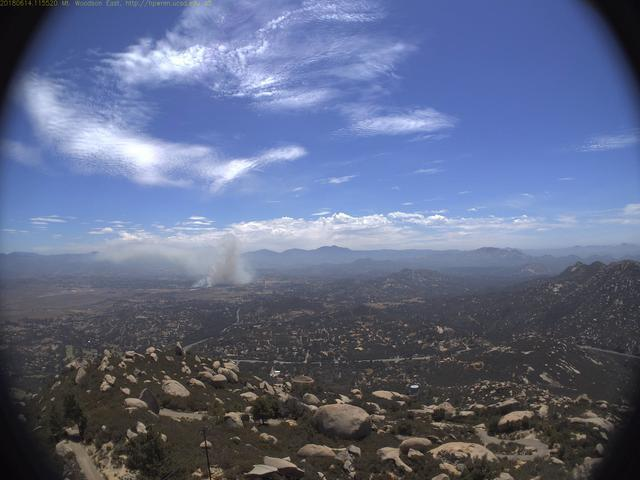smoke: (92, 228, 257, 291)
